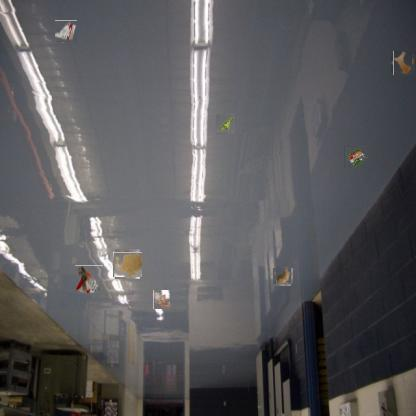dirty: (75, 265, 103, 294), (344, 146, 368, 168), (56, 20, 77, 42), (216, 115, 234, 134), (153, 289, 170, 309), (274, 268, 292, 286)
liquid: (114, 251, 141, 278), (392, 53, 414, 74)
